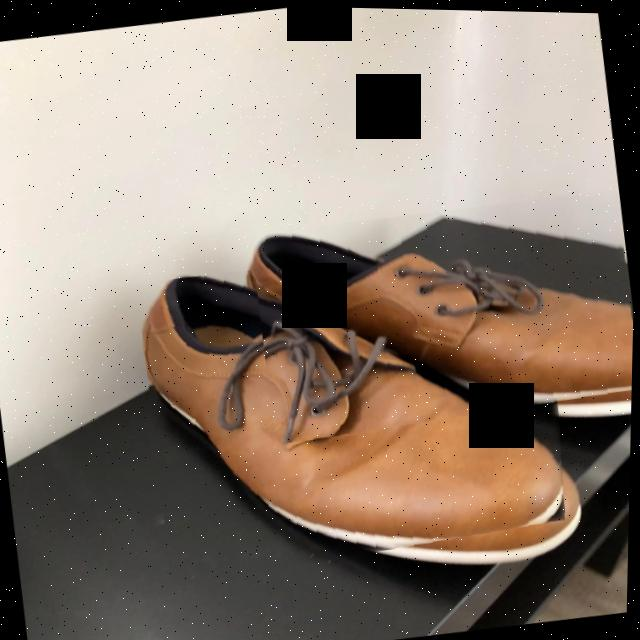shoe: (146, 277, 570, 549), (256, 229, 634, 400)
